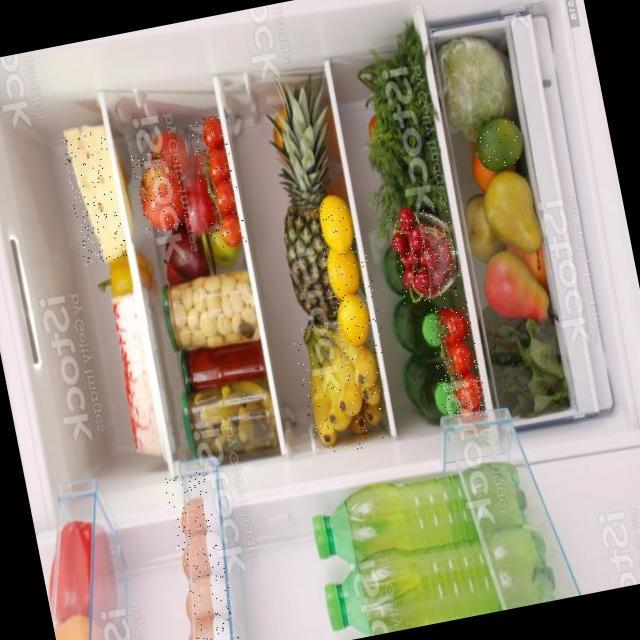Huevos: (163, 469, 243, 640)
Manzana: (131, 147, 189, 233)
Queso: (60, 128, 128, 265)
